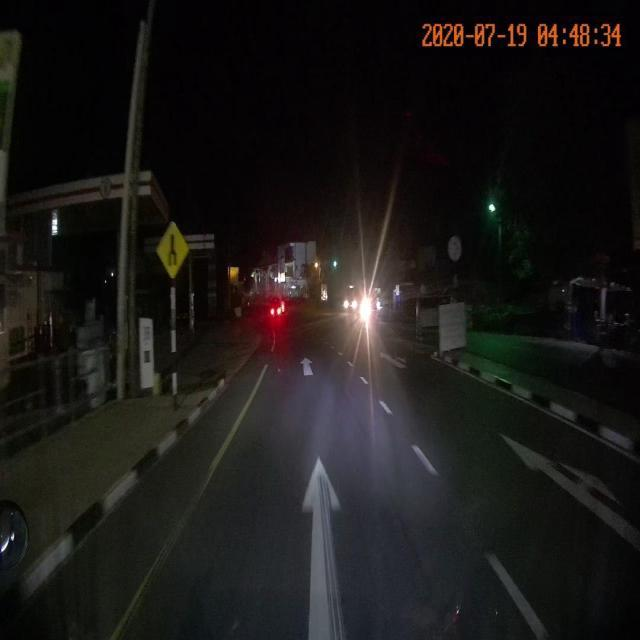Liniya 1: (111, 362, 271, 639), (482, 550, 553, 640), (408, 443, 439, 476), (379, 400, 393, 415), (271, 330, 276, 352), (359, 376, 369, 384), (347, 361, 354, 368)
Strelka vpered: (301, 454, 345, 639), (300, 357, 314, 376)
Strelka vpered - vpravo: (499, 431, 640, 555), (381, 352, 408, 368)
